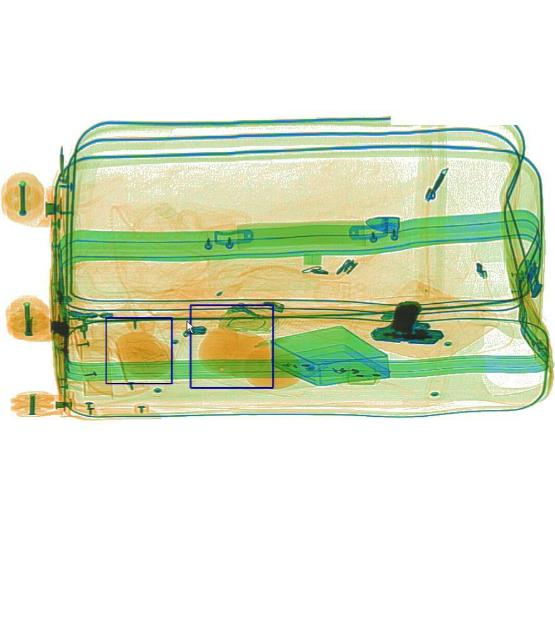Gun: (369, 296, 442, 346)
